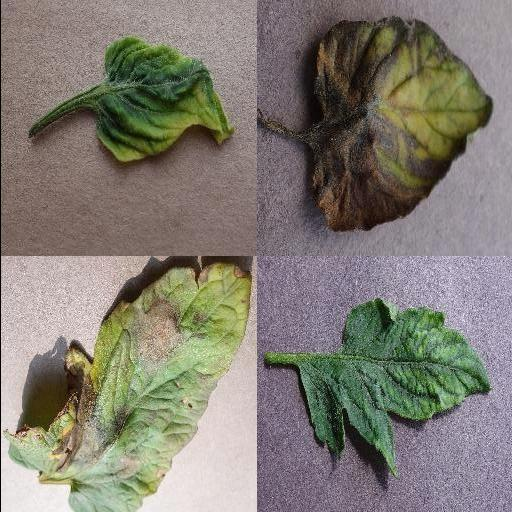Late Blight: (0, 262, 251, 511), (308, 17, 494, 233)
Mosaic Virus: (296, 294, 494, 478)
Yellow Leaf Curl Virus: (94, 36, 236, 164)
